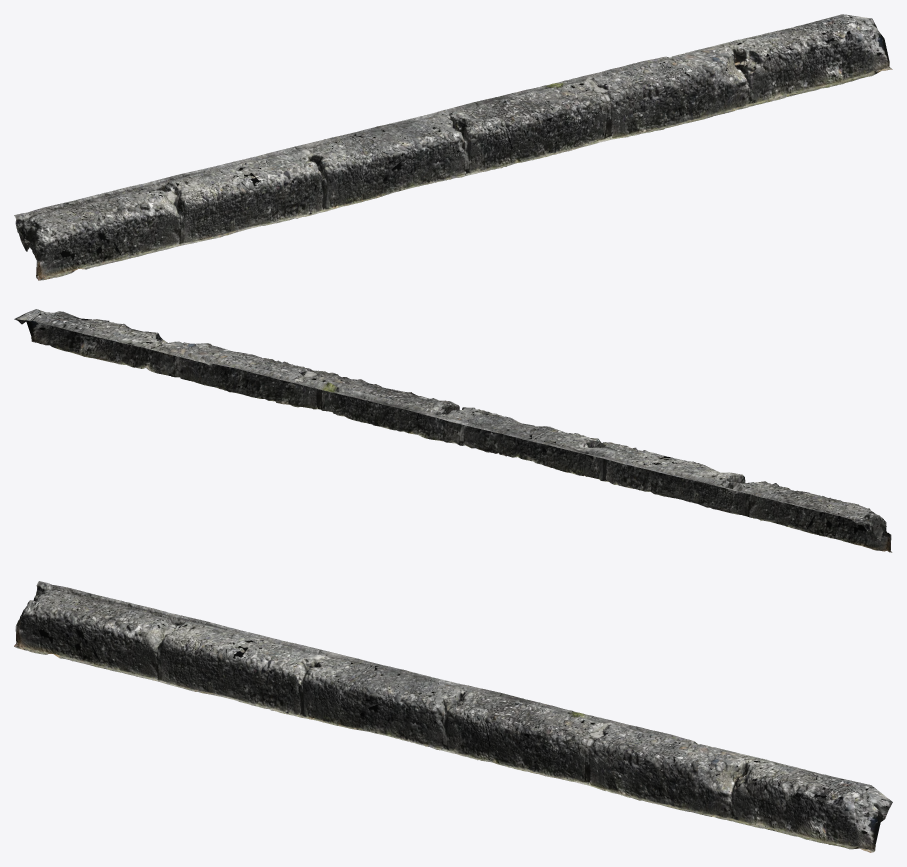
Rendered from curb-stone.glb.
The picture shows the model from 3 angles, top to bottom: view 1: azimuth 30°, elevation 25°; view 2: azimuth 150°, elevation 25°; view 3: azimuth 330°, elevation 25°; orthographic projection.
Visible parts, largest first — view 1: Object_2; view 2: Object_2; view 3: Object_2.
Boxes of the visible parts, box(x1,y1,x2,y2) form: Object_2: box(14, 14, 892, 280); Object_2: box(14, 309, 892, 552); Object_2: box(14, 581, 892, 852).
Size of the model in its own units: 2.78 by 0.1611 by 0.1462.
1 material, 1 textured.
